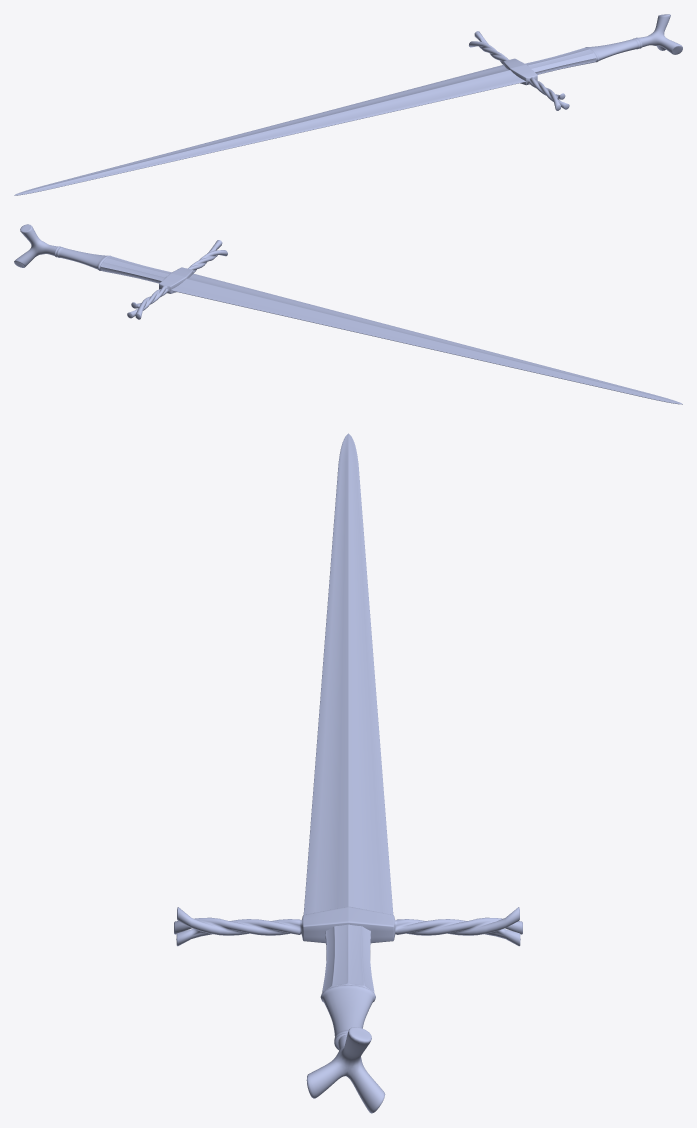
File: writhen_longsword.fbx
3 renders of one model, top to bottom at view 1: azimuth 30°, elevation 25°; view 2: azimuth 150°, elevation 25°; view 3: azimuth 270°, elevation 25°, orthographic. The views are drawn at different scales.
Visible parts, largest first — view 1: 2hand_writhen_sword.001; view 2: 2hand_writhen_sword.001; view 3: 2hand_writhen_sword.001.
Part boxes in pixels (x1,y1,x2,y2): 2hand_writhen_sword.001: [14, 14, 682, 195]; 2hand_writhen_sword.001: [14, 224, 682, 404]; 2hand_writhen_sword.001: [174, 433, 522, 1113].
Size of the model in its own units: 111 by 6.41 by 25.48.
